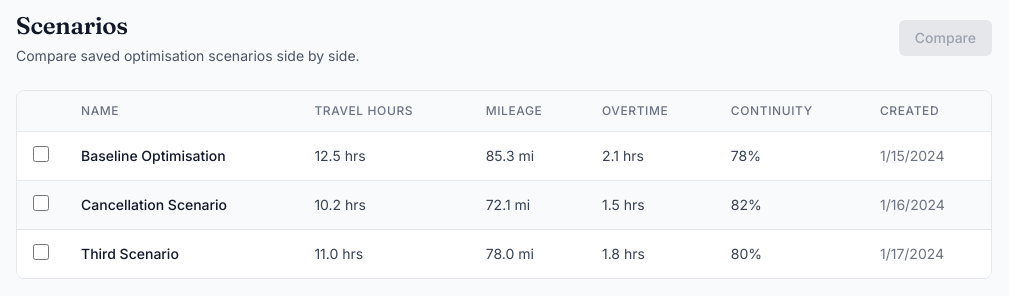
it: ScenariosPage › enables compare button when exactly 2 scenarios are selected
Check: the text "Baseline Optimisation" is shown, box [65, 132, 298, 180]
Click the checkbox named "Select Baseline Optimisation for comparison" at {"x": 41, "y": 154}, box [33, 146, 49, 162]
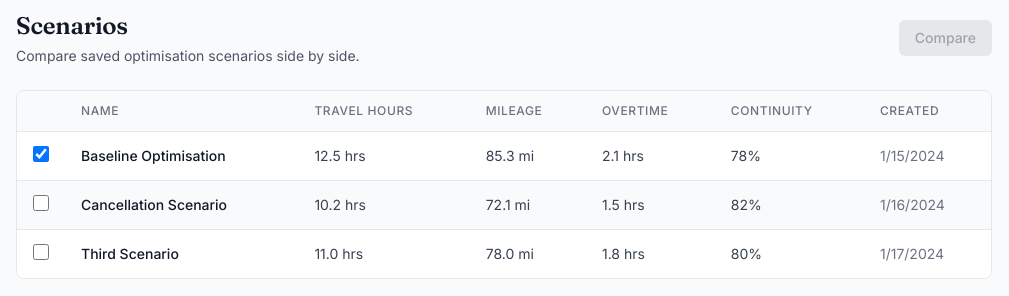
Click the checkbox named "Select Cancellation Scenario for comparison" at {"x": 41, "y": 203}, box [33, 195, 49, 211]
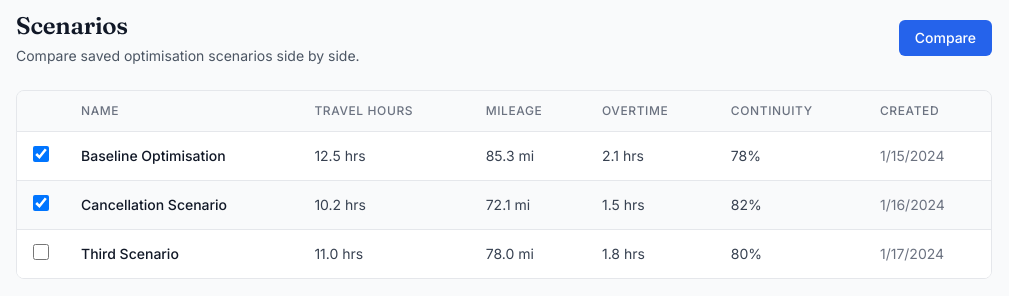
Check: the button "Compare" is enabled, box [899, 20, 992, 56]
